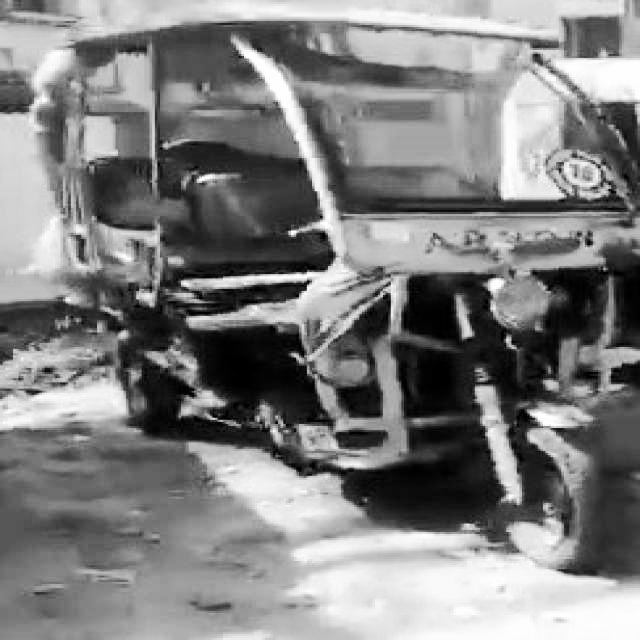Toto: (44, 19, 627, 567)
